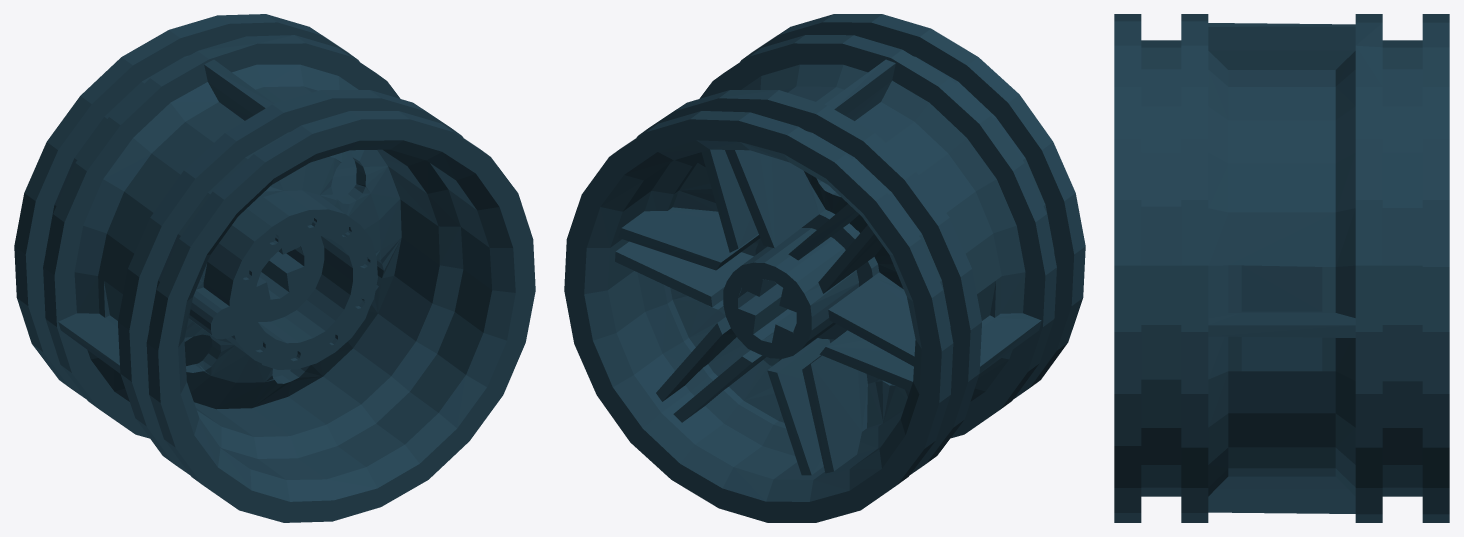
File: bobb3e_tire.dae
3 renders of one model, left to right at view 1: azimuth 30°, elevation 25°; view 2: azimuth 150°, elevation 25°; view 3: azimuth 270°, elevation 25°, orthographic. The views are drawn at different scales.
Visible parts, largest first — view 1: Wheel_Rim_20_x_30_with_6_Spokes_and_External_Ribs__04; view 2: Wheel_Rim_20_x_30_with_6_Spokes_and_External_Ribs__04; view 3: Wheel_Rim_20_x_30_with_6_Spokes_and_External_Ribs__04.
Part boxes in pixels (x1,y1,x2,y2): Wheel_Rim_20_x_30_with_6_Spokes_and_External_Ribs__04: (14, 14, 535, 522); Wheel_Rim_20_x_30_with_6_Spokes_and_External_Ribs__04: (564, 14, 1085, 522); Wheel_Rim_20_x_30_with_6_Spokes_and_External_Ribs__04: (1114, 14, 1449, 522).
Size of the model in its own units: 3.03 by 2 by 3.04.
